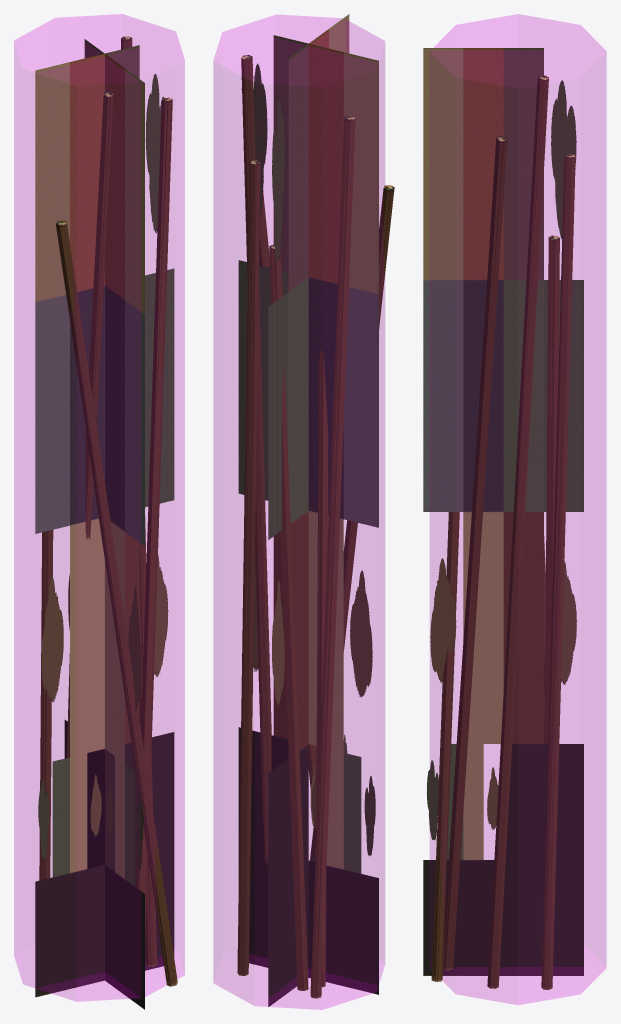
The model's file is ocotillo_med.dae.
The picture shows the model from 3 angles, left to right: view 1: azimuth 30°, elevation 25°; view 2: azimuth 150°, elevation 25°; view 3: azimuth 270°, elevation 25°; orthographic projection.
Visible parts, largest first — view 1: Colmesh_clump-1, ocotillo_med_a50, ocotillo_med_a800, ocotillo_med_a200; view 2: Colmesh_clump-1, ocotillo_med_a50, ocotillo_med_a800, ocotillo_med_a200; view 3: Colmesh_clump-1, ocotillo_med_a50, ocotillo_med_a800, ocotillo_med_a200.
Part boxes in pixels (bbox=[...]): Colmesh_clump-1: bbox=[14, 14, 184, 1001]; ocotillo_med_a50: bbox=[35, 39, 174, 1009]; ocotillo_med_a800: bbox=[39, 36, 177, 986]; ocotillo_med_a200: bbox=[43, 37, 170, 986]; Colmesh_clump-1: bbox=[213, 15, 384, 1009]; ocotillo_med_a50: bbox=[238, 14, 378, 1006]; ocotillo_med_a800: bbox=[237, 55, 394, 998]; ocotillo_med_a200: bbox=[239, 56, 394, 998]; Colmesh_clump-1: bbox=[430, 14, 606, 1004]; ocotillo_med_a50: bbox=[423, 48, 583, 975]; ocotillo_med_a800: bbox=[431, 75, 575, 989]; ocotillo_med_a200: bbox=[432, 76, 575, 989].
Size of the model in its own units: 0.56 by 0.5807 by 3.24.
2 materials, 1 textured.
